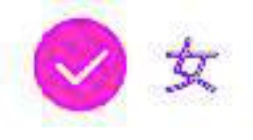CheckBox: (1, 1, 252, 139)
